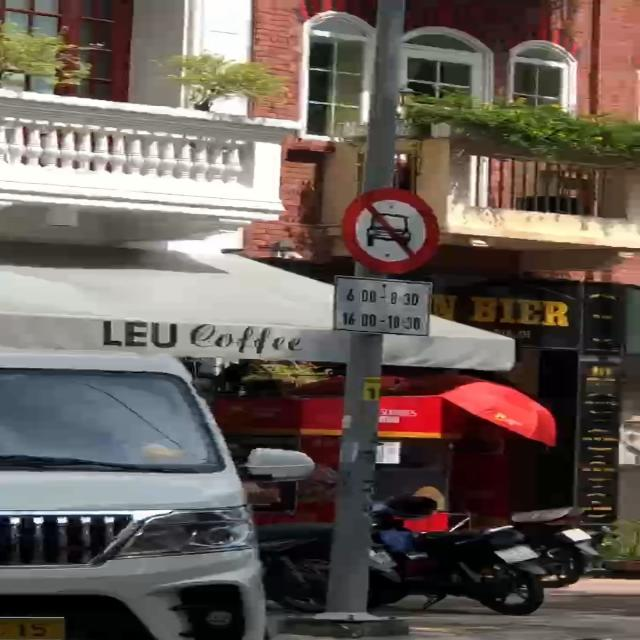Bien bao cam xe oto: (336, 183, 443, 275)
